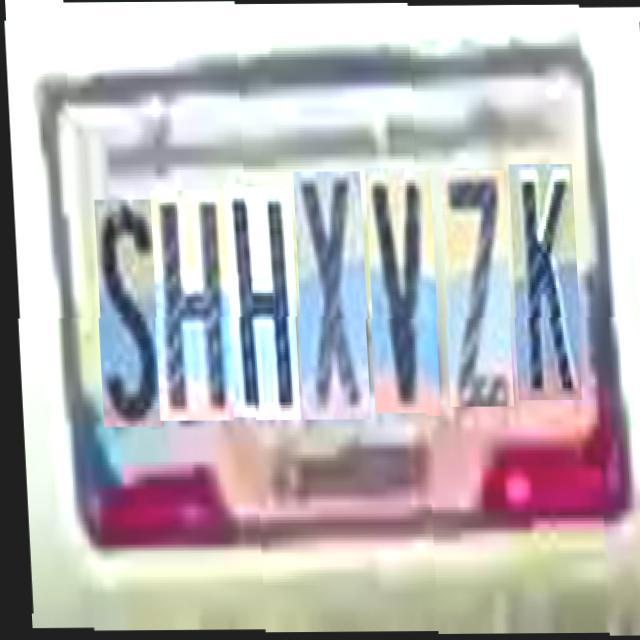H: (146, 190, 230, 420), (220, 185, 296, 418)
K: (504, 159, 578, 395)
S: (90, 200, 160, 427)
V: (361, 166, 436, 411)
X: (289, 169, 366, 417)
Z: (436, 166, 509, 402)
